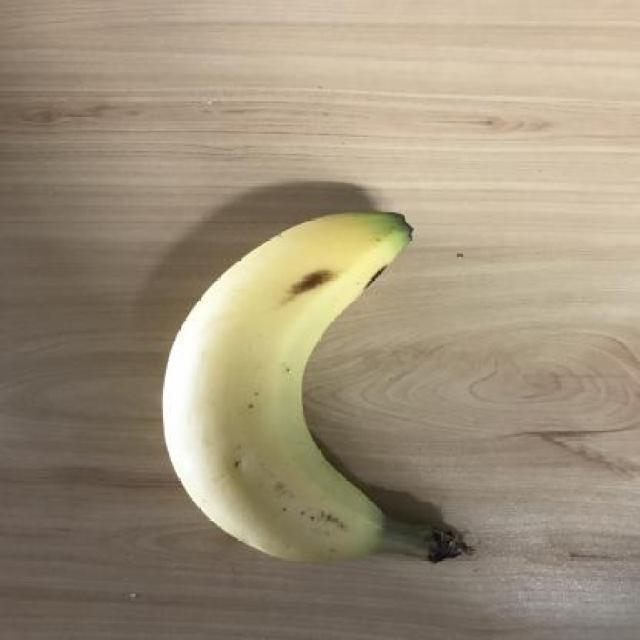banana: (164, 205, 472, 564)
